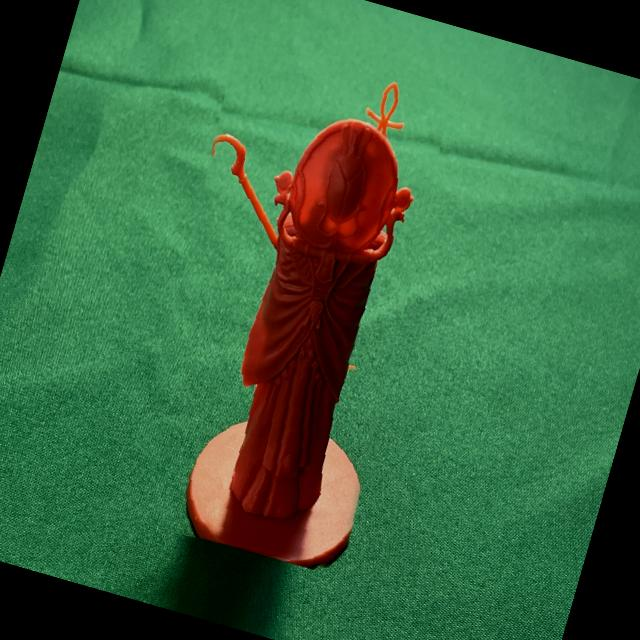amon: (108, 36, 470, 578)
